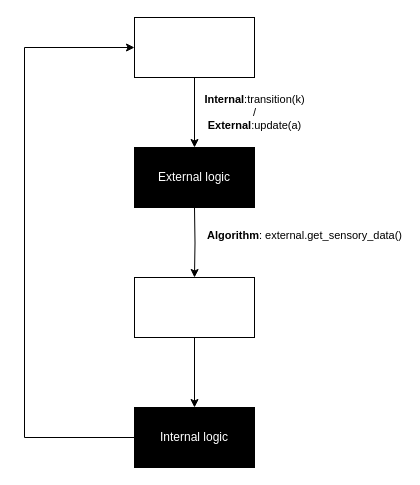
The diagram is 420 pixels wide and 485 high, and some of its shapes have lost their labels. Here are the shapes that lost their labels. From the top down, the centre of each, then its label:
the point at 194,47: Algorithm tries transition
the point at 194,307: Algorithm updates internal
